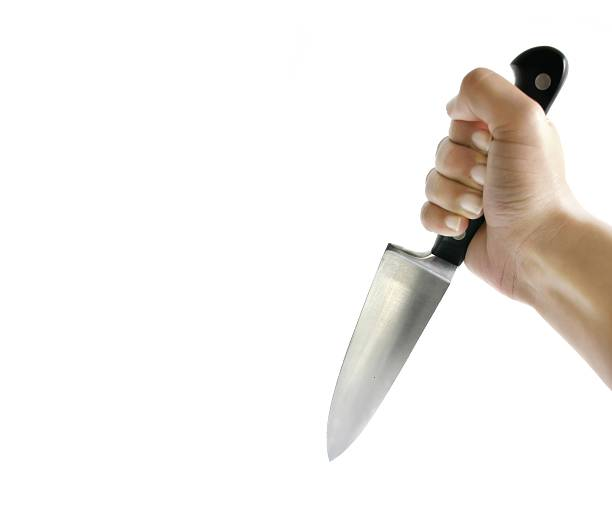knife: (324, 44, 570, 464)
